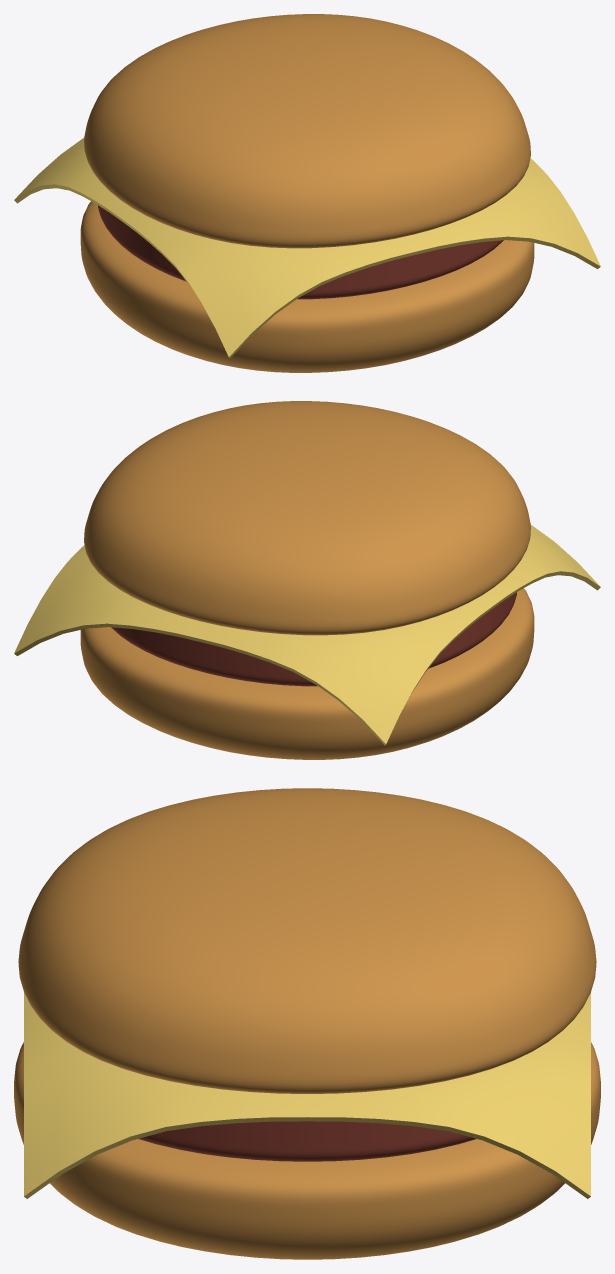
The model's file is hamburger.glb.
3 views of the same model, one above another, from view 1: azimuth 30°, elevation 25°; view 2: azimuth 150°, elevation 25°; view 3: azimuth 270°, elevation 25° (orthographic). The views are drawn at different scales.
Visible parts, largest first — view 1: topBun, bottomBun, cheese, patty; view 2: topBun, bottomBun, cheese, patty; view 3: topBun, bottomBun, cheese, patty.
Boxes of the visible parts, <box> form: topBun: <box>84,14,530,248</box>; bottomBun: <box>80,201,534,372</box>; cheese: <box>14,138,600,358</box>; patty: <box>98,205,503,299</box>; topBun: <box>84,401,530,635</box>; bottomBun: <box>80,588,534,759</box>; cheese: <box>14,525,600,745</box>; patty: <box>111,592,516,686</box>; topBun: <box>18,788,596,1093</box>; bottomBun: <box>14,1042,600,1259</box>; cheese: <box>24,992,590,1198</box>; patty: <box>138,1121,476,1161</box>.
Bounding box in the file's own units: 9.17 × 5.67 × 9.17.
